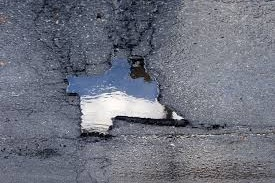pothole: (62, 57, 189, 143)
